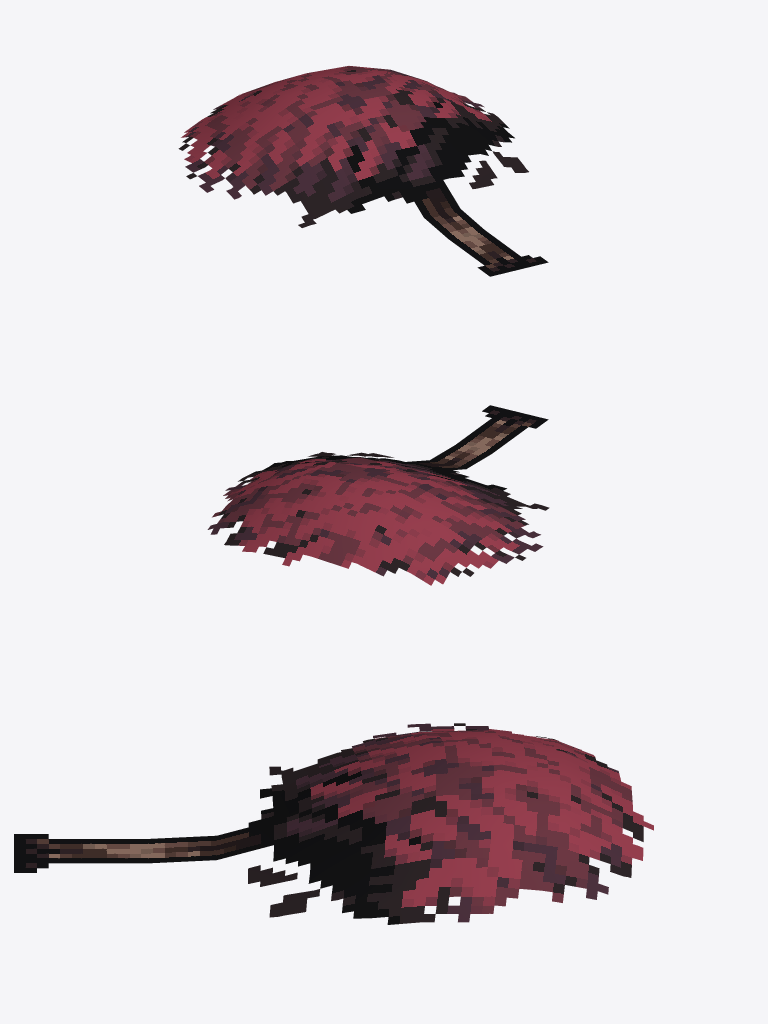
File: Tree_Billboard_1.fbx
3 renders of one model, top to bottom at view 1: azimuth 30°, elevation 25°; view 2: azimuth 150°, elevation 25°; view 3: azimuth 270°, elevation 25°, orthographic. The views are drawn at different scales.
Parts seen in each view (by area): view 1: Tree_01; view 2: Tree_01; view 3: Tree_01.
Part boxes in pixels (x1,y1,x2,y2): Tree_01: [178, 66, 548, 276]; Tree_01: [207, 405, 549, 585]; Tree_01: [14, 723, 653, 924].
Bounding box in the file's own units: 100 × 12.36 × 100.
